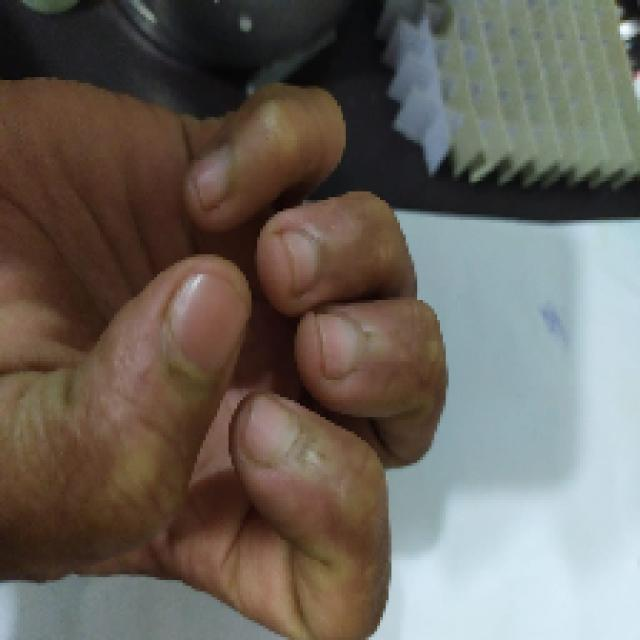Nail: (168, 275, 248, 373), (243, 395, 300, 467), (316, 314, 365, 379), (190, 145, 232, 209), (284, 231, 319, 295)
